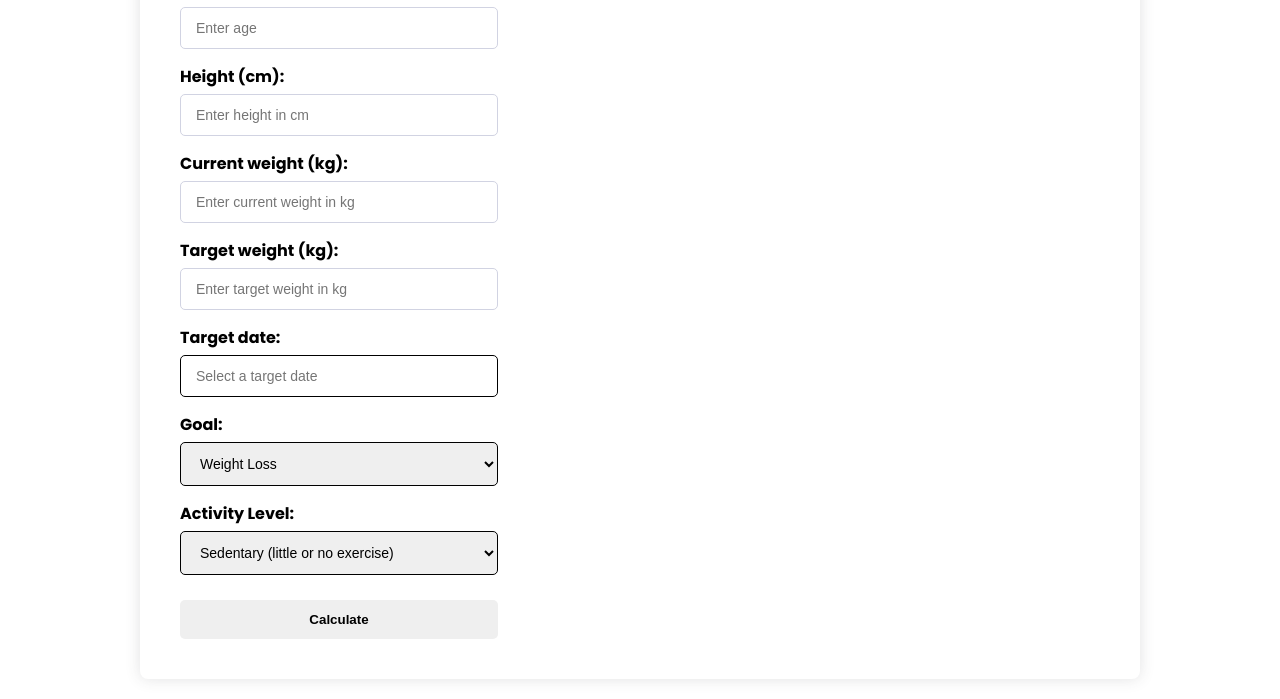
Test: shows error when fields are missing
The image size is (1280, 699).
(page scrolled)
Step 1. Click the button "Calculate" → point(339, 619), box [180, 600, 498, 639]
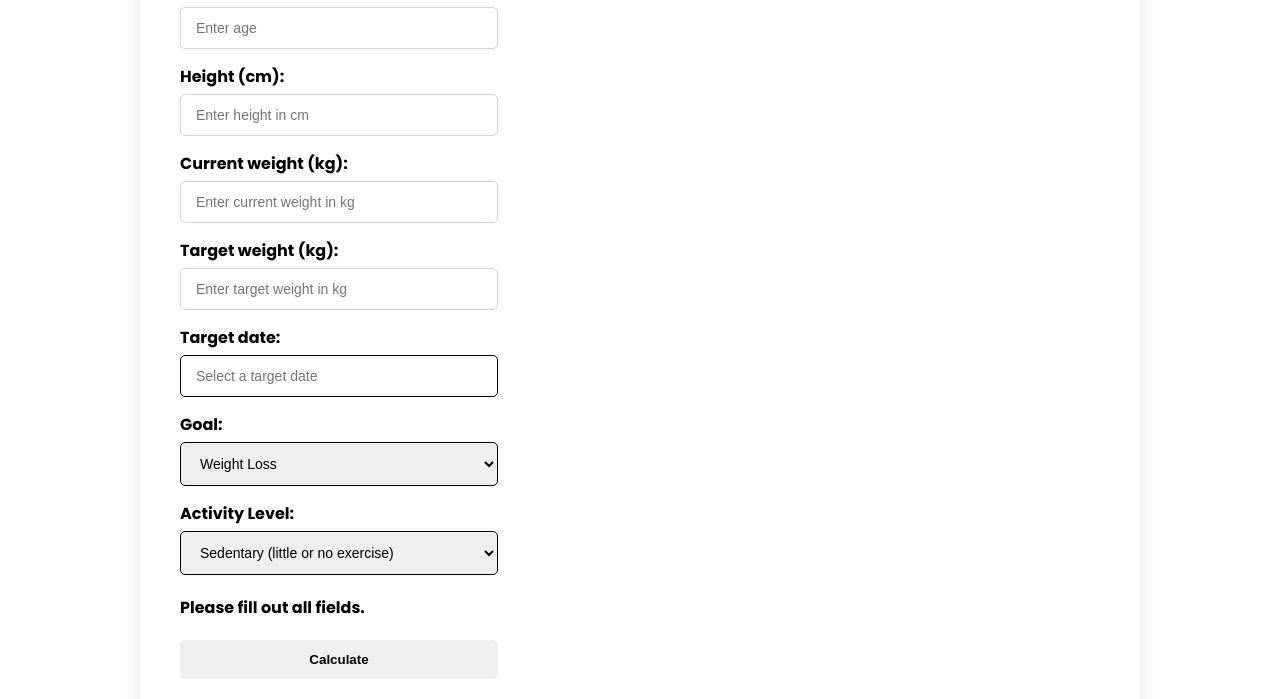
Expected: the text "Please fill out all fields." is shown, [180, 596, 365, 619]
